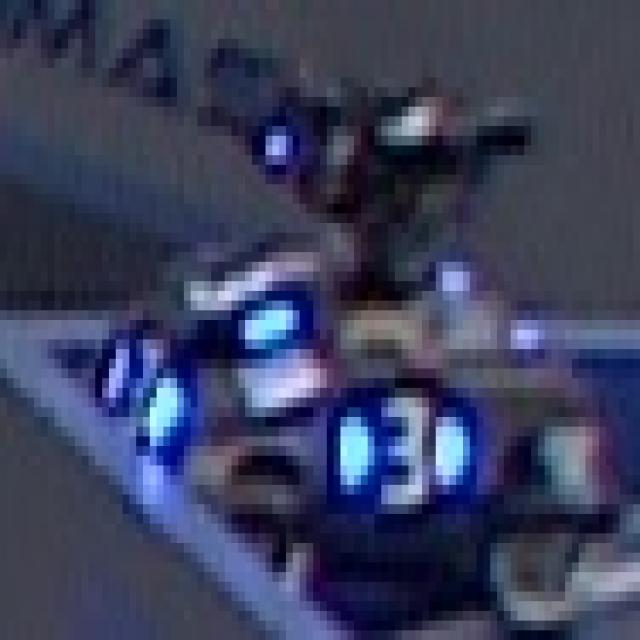B3: (327, 388, 470, 504), (95, 330, 184, 456)
